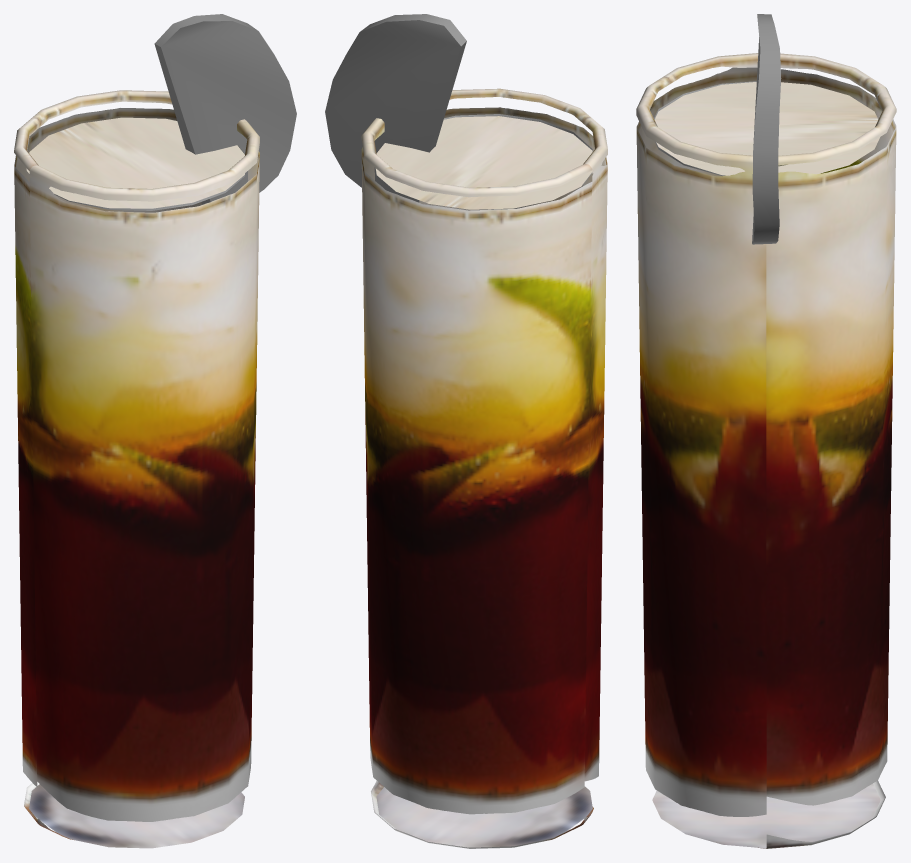
File: Cocktail01_2.FBX
3 renders of one model, left to right at view 1: azimuth 30°, elevation 25°; view 2: azimuth 150°, elevation 25°; view 3: azimuth 270°, elevation 25°, orthographic. The views are drawn at different scales.
Visible parts, largest first — view 1: Cocktail01_2; view 2: Cocktail01_2; view 3: Cocktail01_2.
Part boxes in pixels (x1=…): Cocktail01_2: x1=14, y1=14, x2=296, y2=848; Cocktail01_2: x1=325, y1=14, x2=607, y2=848; Cocktail01_2: x1=636, y1=14, x2=896, y2=848.
Bounding box in the file's own units: 7.81 × 21.99 × 6.43.
